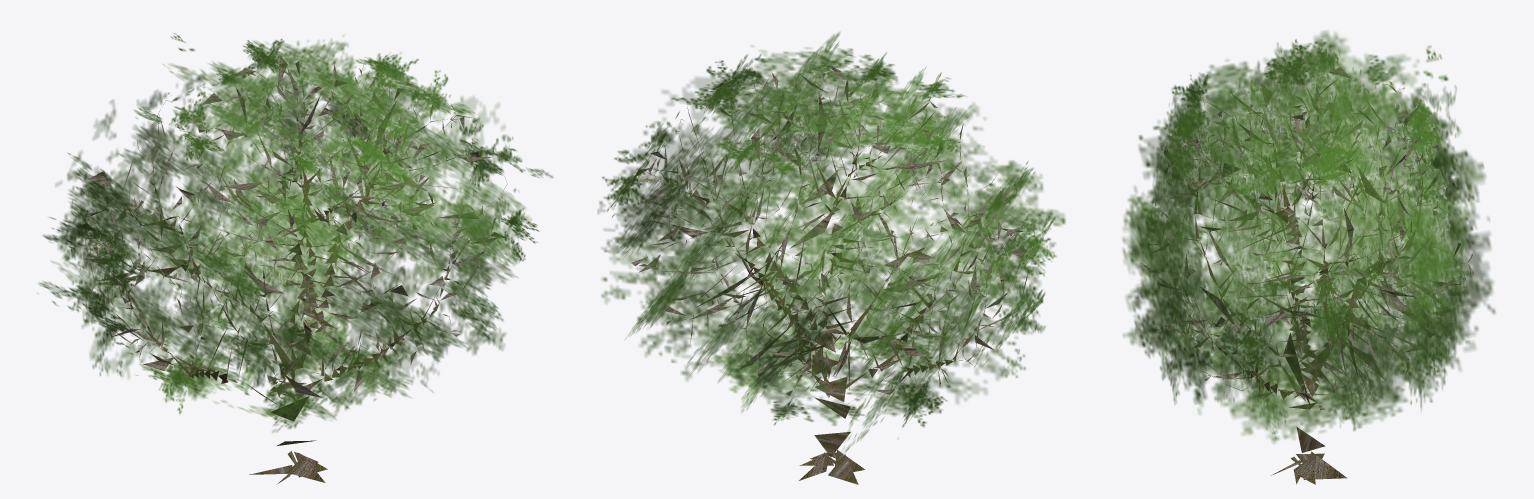
Rendered from world_tree_oak_far.glb.
3 renders of one model, left to right at view 1: azimuth 30°, elevation 25°; view 2: azimuth 150°, elevation 25°; view 3: azimuth 270°, elevation 25°, orthographic. The views are drawn at different scales.
Visible parts, largest first — view 1: Canopy, Scaffold; view 2: Canopy, Scaffold; view 3: Canopy, Scaffold.
Part boxes in pixels (x1,y1,x2,y2): Canopy: (37,33,553,432); Scaffold: (77,55,507,483); Canopy: (597,32,1065,452); Scaffold: (631,65,1037,484); Canopy: (1122,30,1495,443); Scaffold: (1142,59,1474,484).
Size of the model in its own units: 10.86 by 9.3 by 8.57.
Materials: 2 (2 with a texture image).
